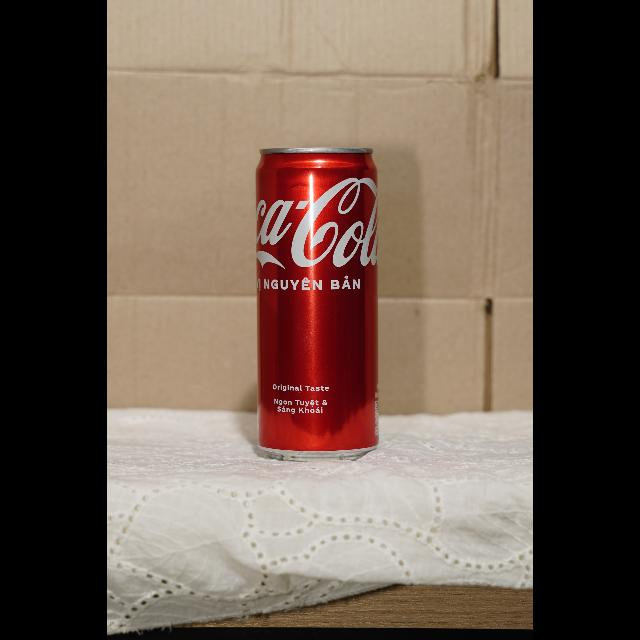coca_cola: (254, 147, 380, 461)
